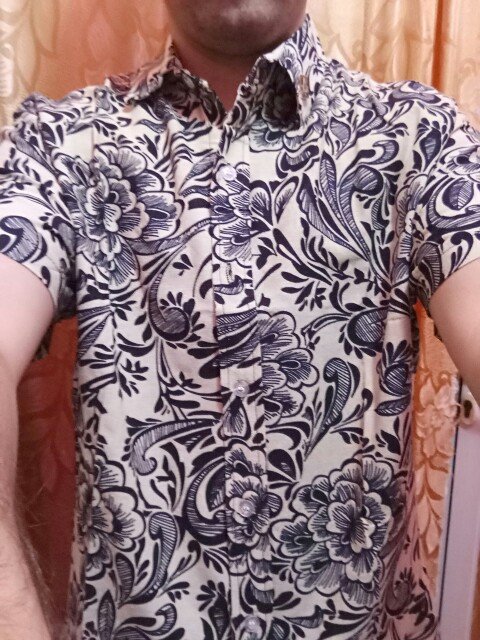shirts: (15, 34, 480, 639)
